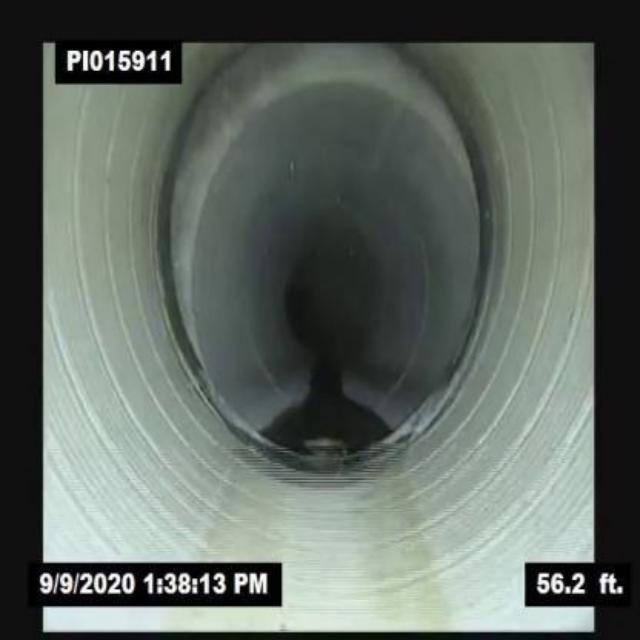Joint offset: (183, 49, 506, 268)
